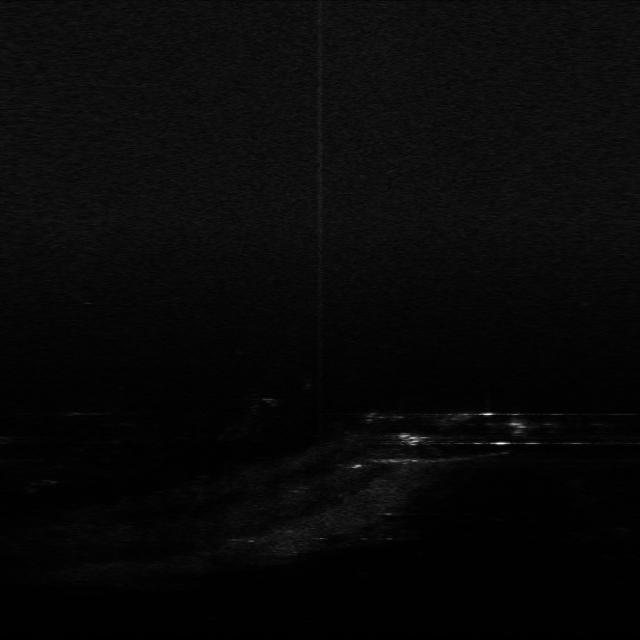rov: (398, 429, 432, 448)
